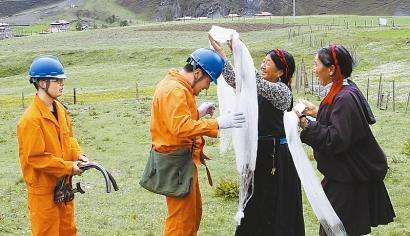blue: (180, 46, 225, 95), (26, 53, 67, 102)
none: (311, 42, 355, 86), (258, 44, 295, 86)
